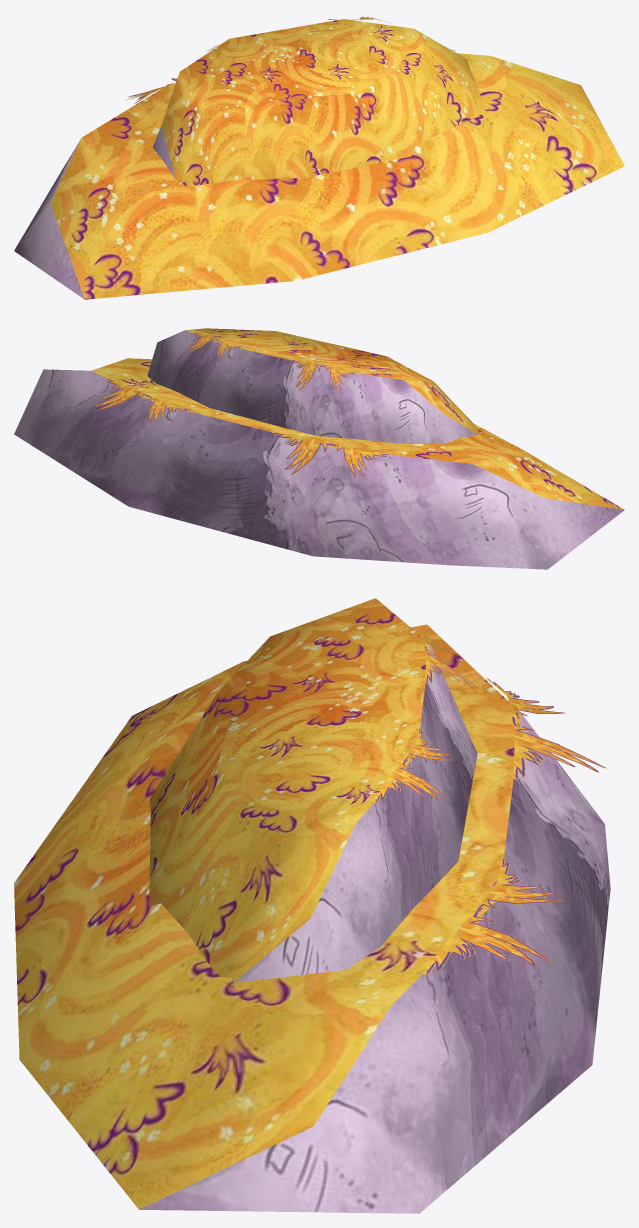
The model's file is entity176416.gltf.
The picture shows the model from 3 angles, top to bottom: view 1: azimuth 30°, elevation 25°; view 2: azimuth 150°, elevation 25°; view 3: azimuth 270°, elevation 25°; orthographic projection. The views are drawn at different scales.
Visible parts, largest first — view 1: node_Terrain_Amount_02; view 2: node_Terrain_Amount_02; view 3: node_Terrain_Amount_02.
Boxes of the visible parts, bbox=[...] form: node_Terrain_Amount_02: bbox=[14, 16, 624, 299]; node_Terrain_Amount_02: bbox=[14, 328, 624, 569]; node_Terrain_Amount_02: bbox=[14, 598, 610, 1213].
Size of what is drawn, in the model's own units: 8.75 by 2.44 by 4.53.
